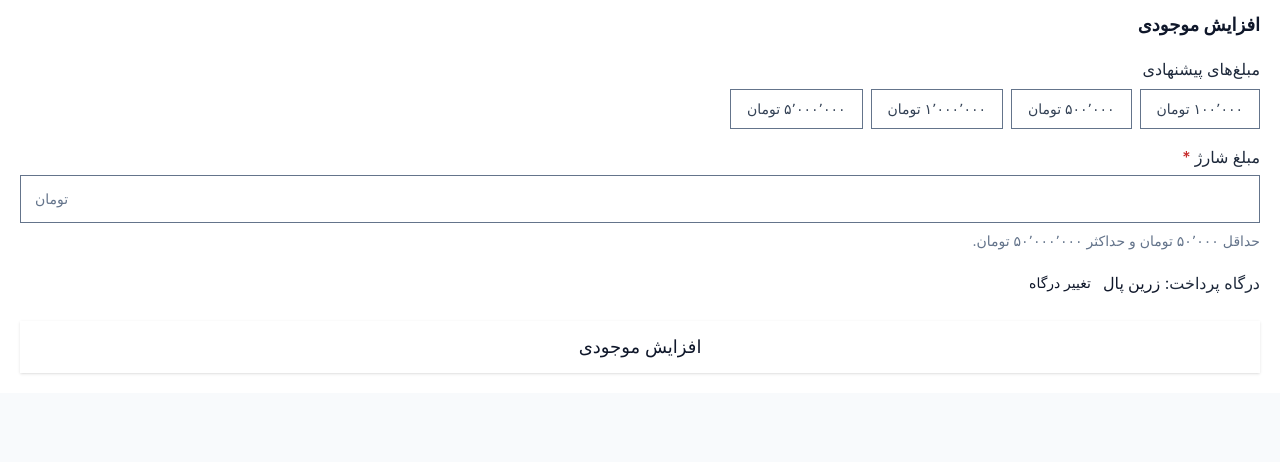
Test case: the press › a new Idempotency-Key for every press (a refusal in between)
This screenshot has width=1280, height=462.
Later steps or results of the test are not shown.
In the field labelled "مبلغ شارژ *": point(664, 199) [68, 176, 1259, 222], type "100000"
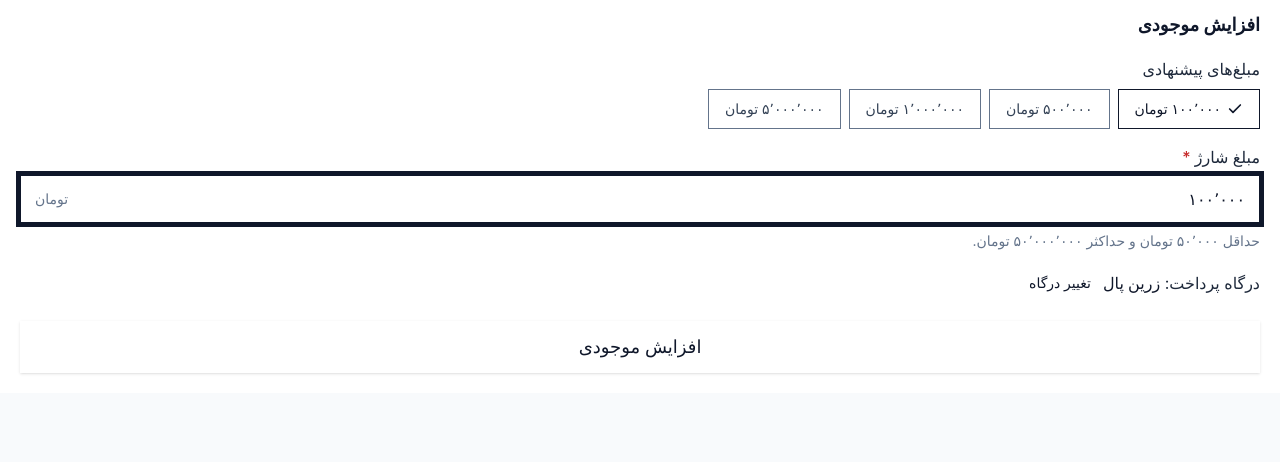
Click the button "افزایش موجودی": point(640, 347) [20, 321, 1260, 373]
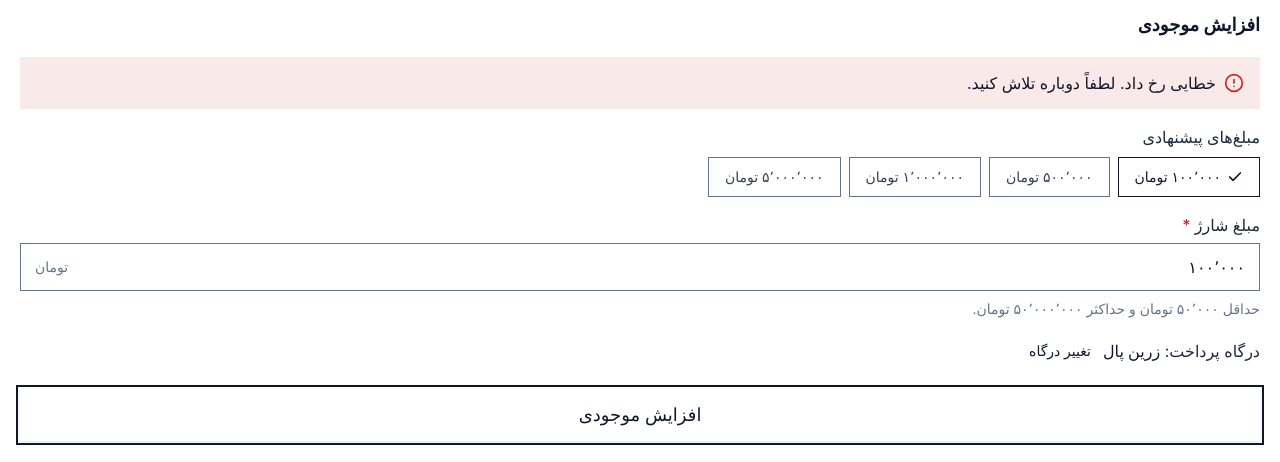
expect the message "خطایی رخ داد. لطفاً دوباره تلاش کنید." is shown: met, box [20, 57, 1260, 109]
